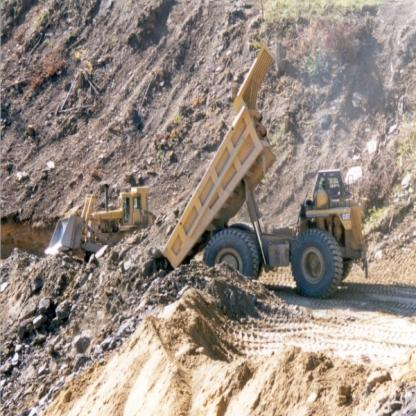bull_dozer/loader/grader: (41, 181, 153, 274)
dump_truck: (168, 42, 367, 302)
